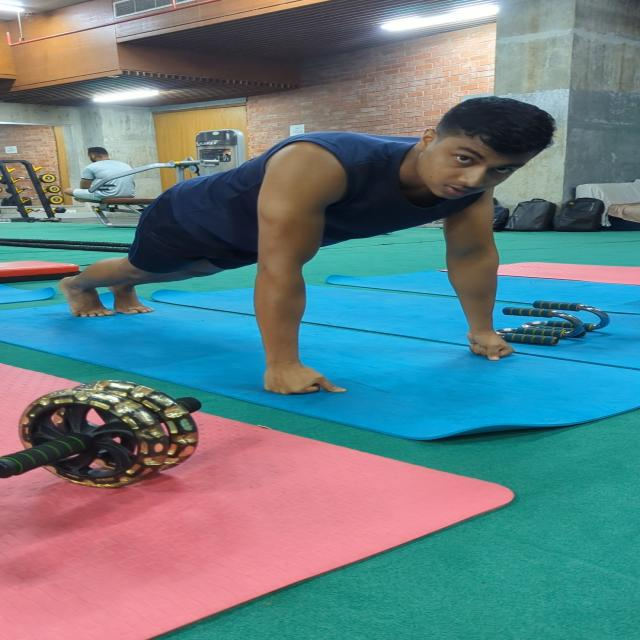Normal_PushUps: (50, 95, 569, 400)
